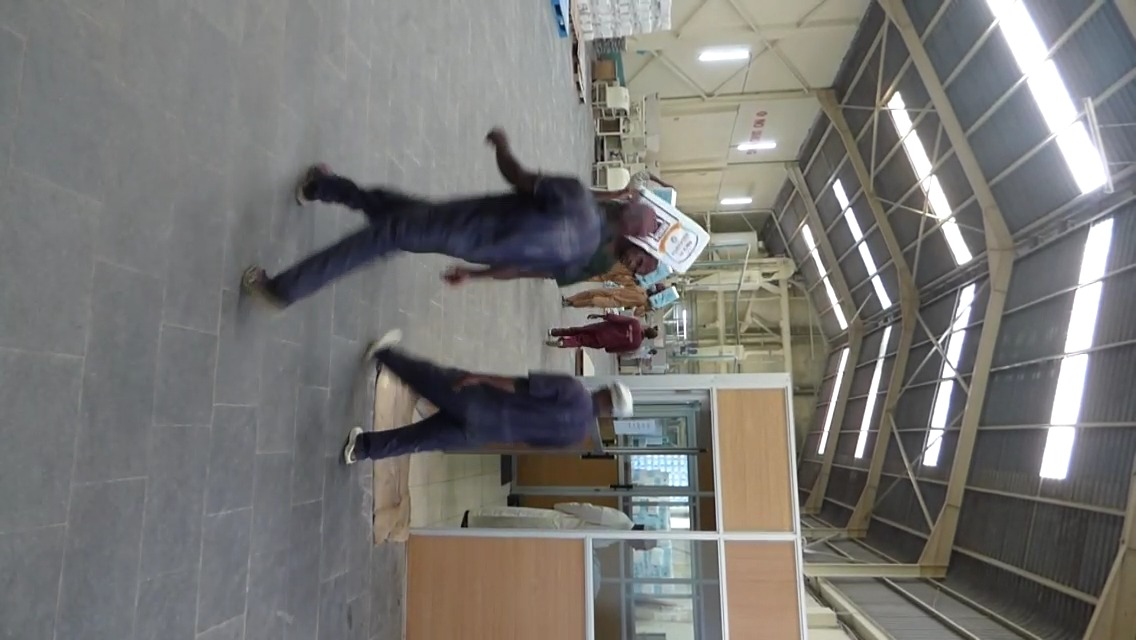wheat_flour_blue_label: (163, 268, 708, 640), (619, 186, 708, 268)
